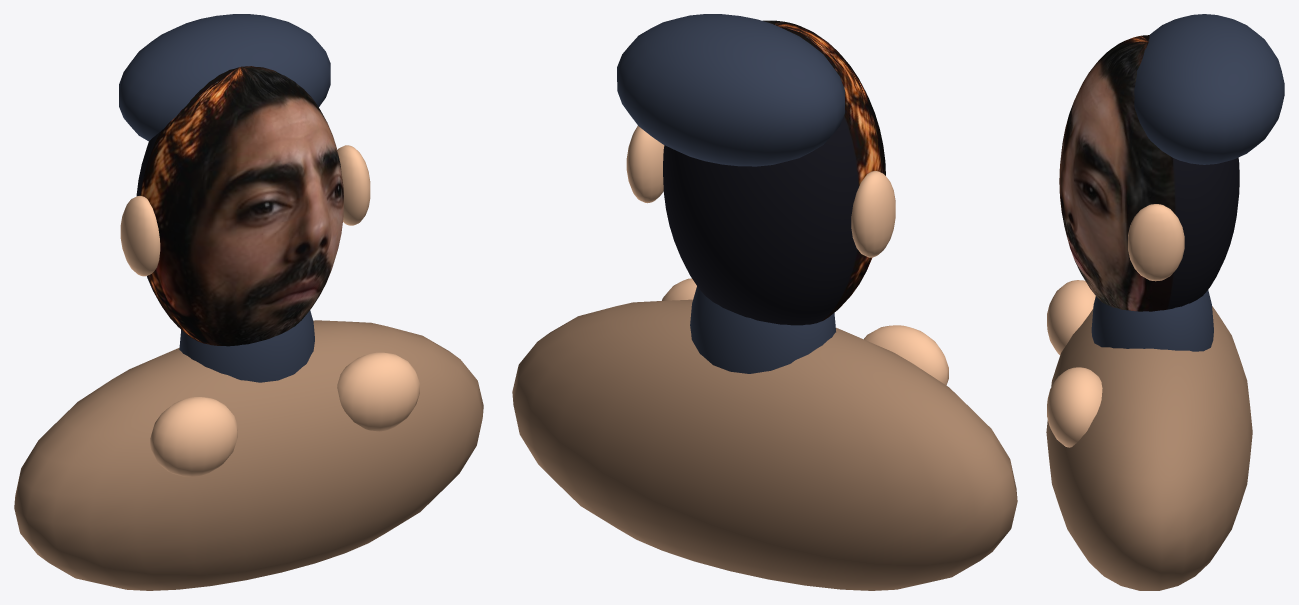
The model's file is performer.glb.
The picture shows the model from 3 angles, left to right: view 1: azimuth 30°, elevation 25°; view 2: azimuth 150°, elevation 25°; view 3: azimuth 270°, elevation 25°; orthographic projection. The views are drawn at different scales.
Bounding box in the file's own units: 1.61 × 1.69 × 0.7386.
Materials: 4 (1 with a texture image).
